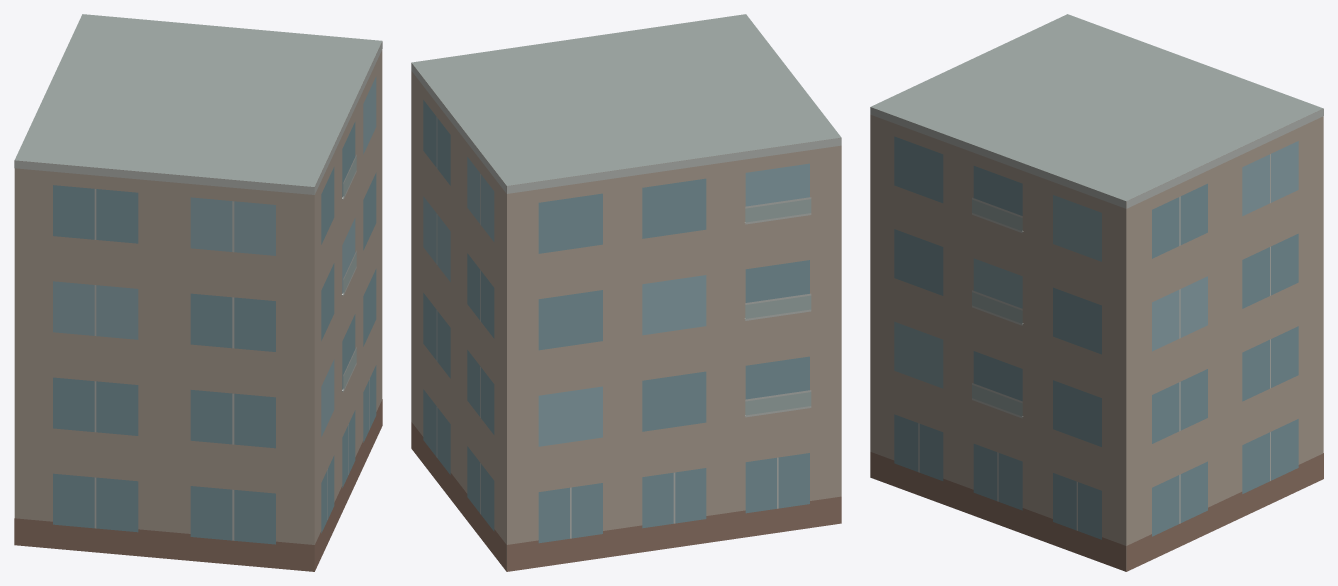
The model's file is survey-upis-32525866.glb.
3 views of the same model, side by side, from view 1: azimuth 30°, elevation 25°; view 2: azimuth 150°, elevation 25°; view 3: azimuth 270°, elevation 25° (orthographic). The views are drawn at different scales.
Parts seen in each view (by area): view 1: survey-upis-32525866.tmp; view 2: survey-upis-32525866.tmp; view 3: survey-upis-32525866.tmp.
Part boxes in pixels (<box>): survey-upis-32525866.tmp: <box>14,14,382,571</box>; survey-upis-32525866.tmp: <box>411,14,841,571</box>; survey-upis-32525866.tmp: <box>870,14,1323,571</box>.
Bounding box in the file's own units: 12.8 × 11.8 × 13.09.
